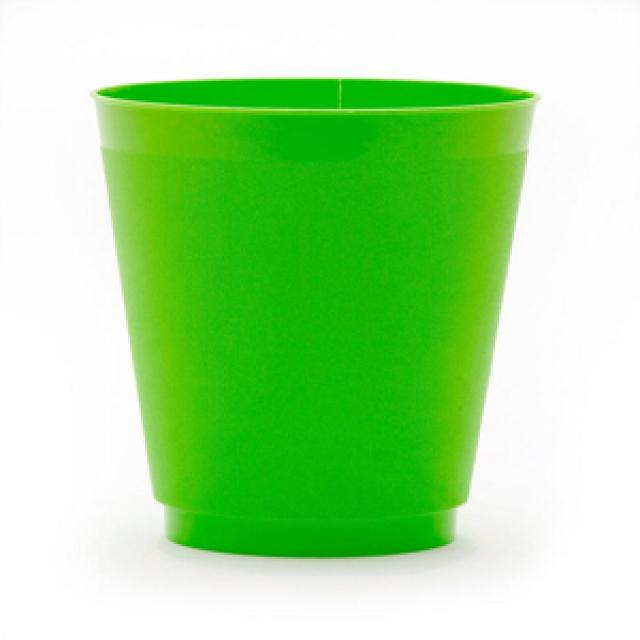plastic cup: (86, 72, 548, 568)
